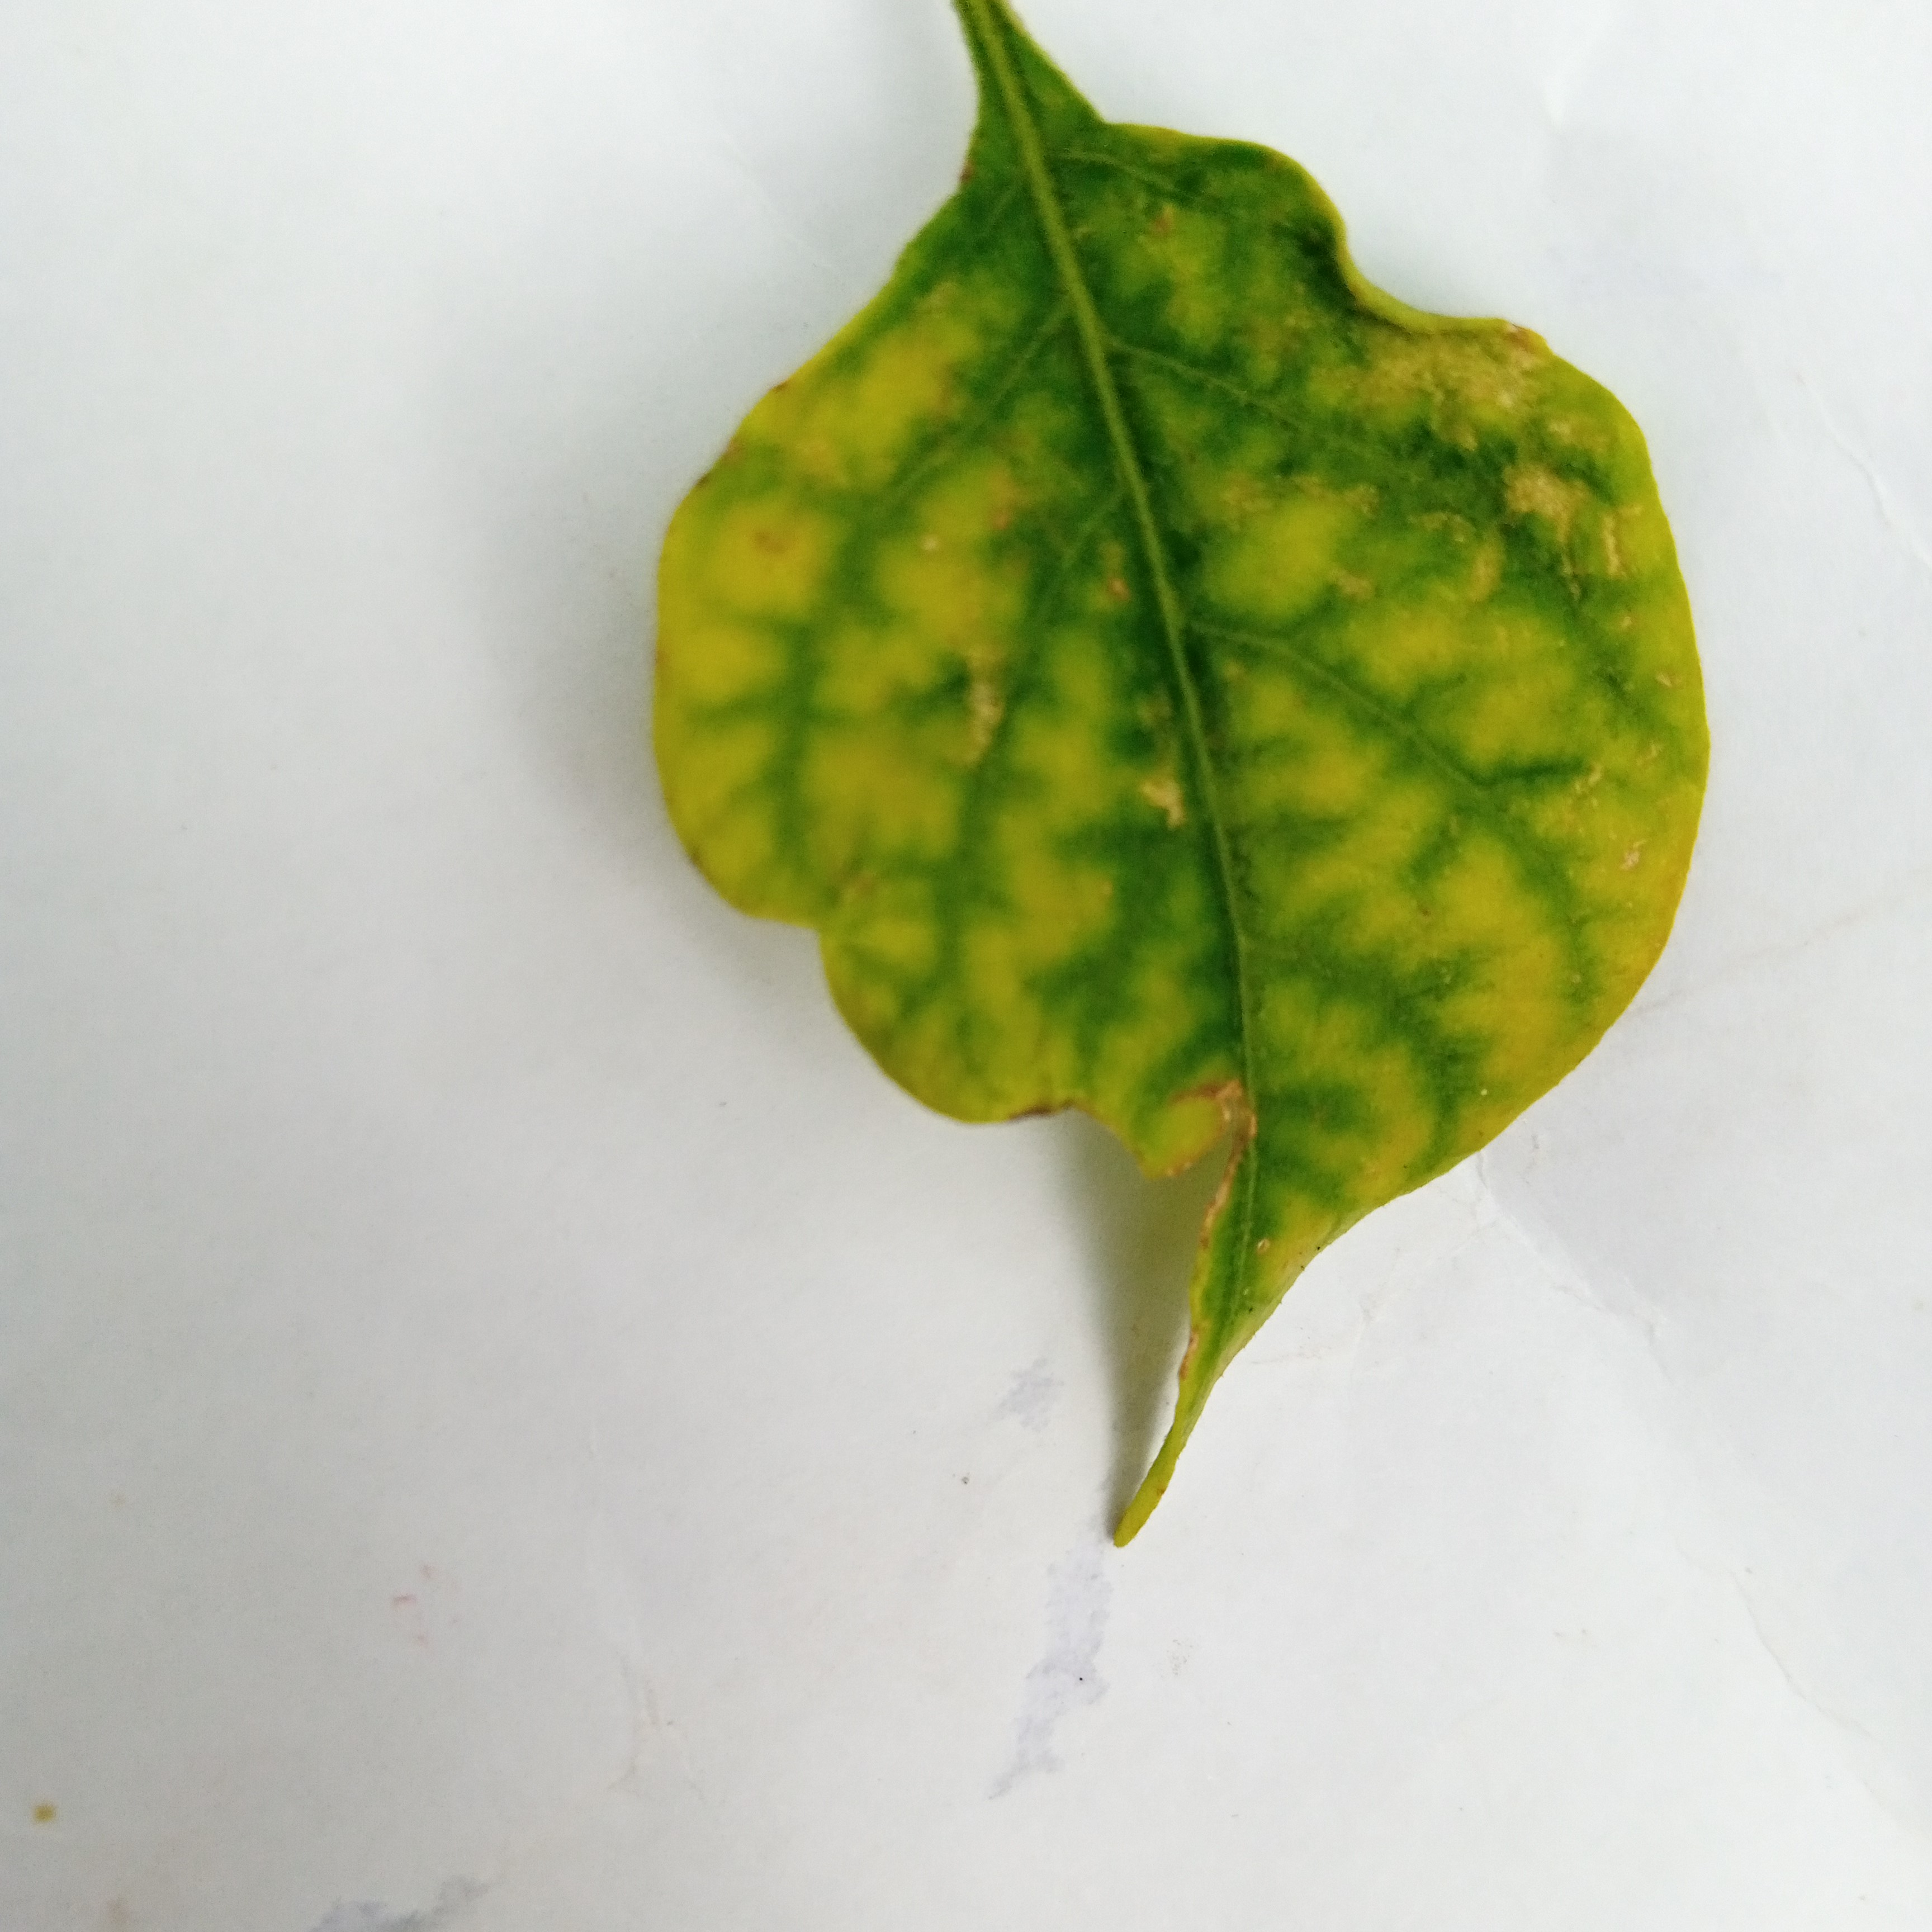Leaf: (536, 57, 1893, 1583)
